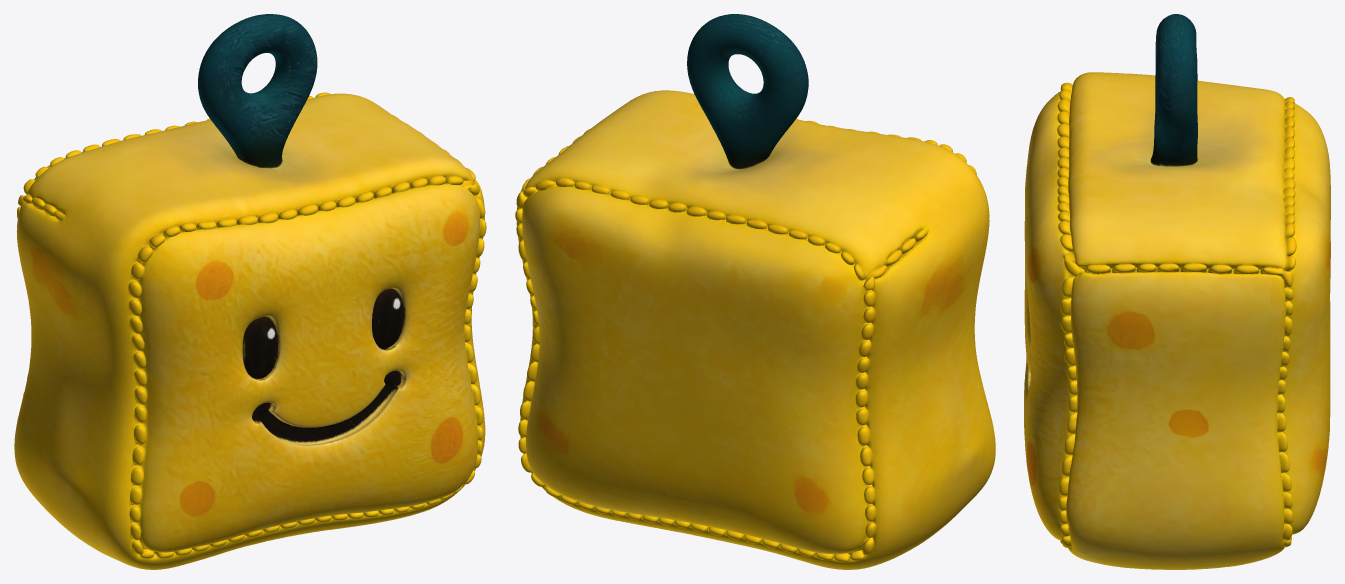
Rendered from base_basic_pbr_compressed.glb.
3 views of the same model, side by side, from view 1: azimuth 30°, elevation 25°; view 2: azimuth 150°, elevation 25°; view 3: azimuth 270°, elevation 25° (orthographic). The views are drawn at different scales.
Visible parts, largest first — view 1: model; view 2: model; view 3: model.
Boxes of the visible parts, left/top/right/bottom form: model: left=14, top=14, right=486, bottom=569; model: left=515, top=14, right=995, bottom=569; model: left=1024, top=14, right=1330, bottom=569.
Size of the model in its own units: 1.59 by 1.9 by 1.1.
Materials: 1 (1 with a texture image).
